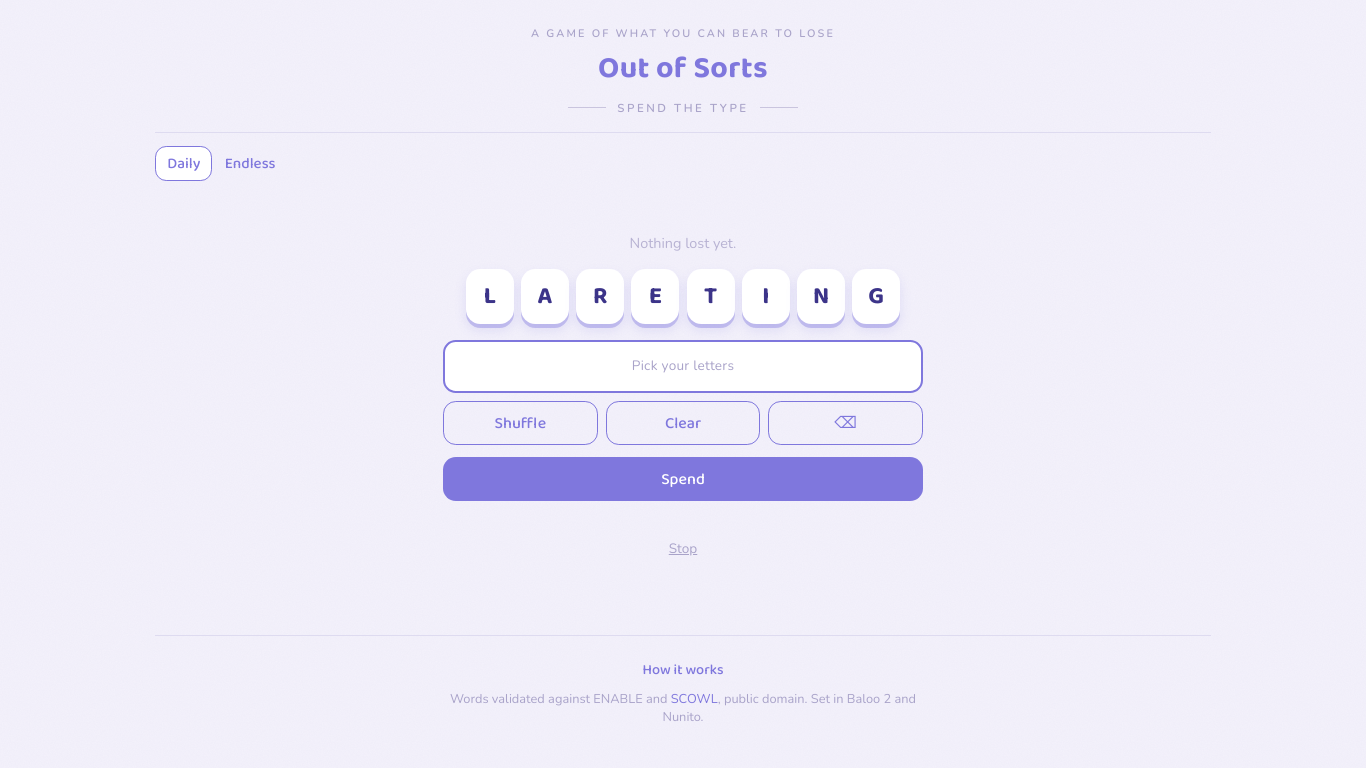
daily and endless gate independently › a restored endless waits on its own account
Expected: the text "finding what you left" is not shown
Click the button "Endless": click(250, 164) left=212, top=146, right=288, bottom=181
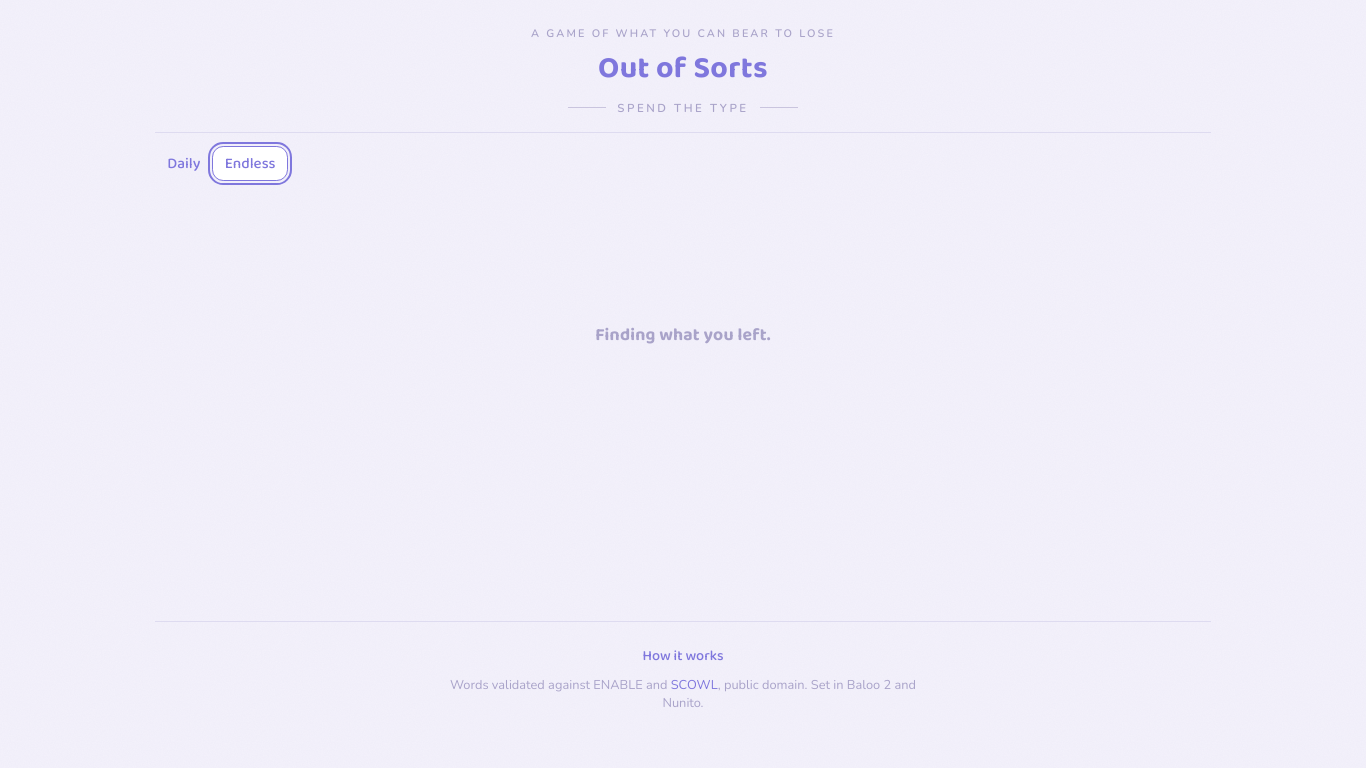
Expected: the element with test id "restoring" is shown, left=595, top=321, right=771, bottom=349
Expected: the button with test id "pool-tile" is gone
